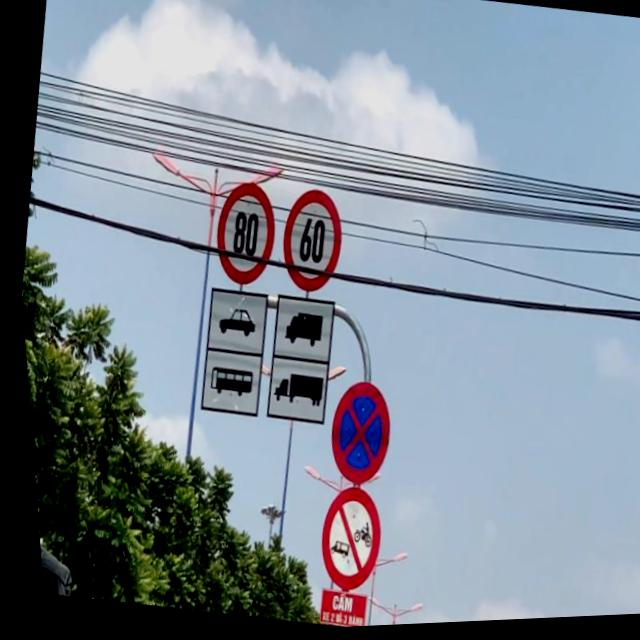Cam dung xe va do xe: (312, 375, 396, 497)
Toc do toi da cho phep: (267, 183, 351, 302), (201, 175, 284, 294)
